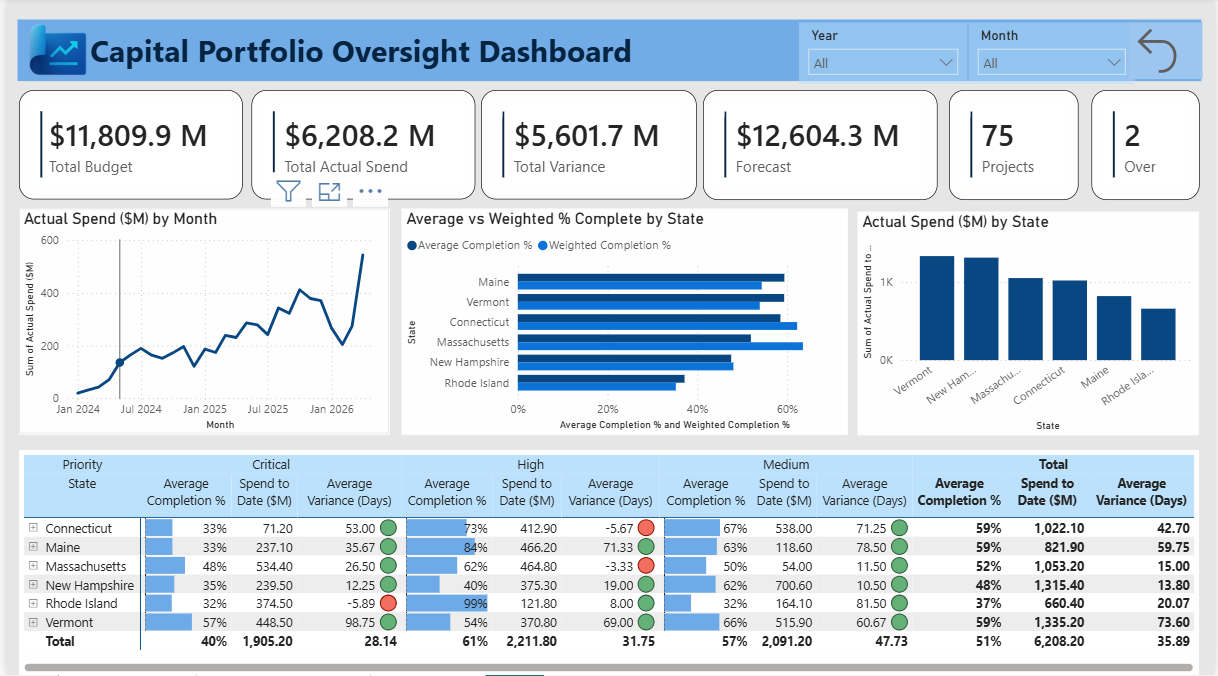

What the dashboard file says about the page in this screenshot:
{"tool":"powerbi","page":{"name":"Overview","canvas":[1280,720],"ordinal":0},"visuals":[{"type":"cardVisual","fields":{"Data":["CapitalProjects.Total Budget (M)"]},"box":[13.5,99.3,237.3,116.1],"z":0},{"type":"cardVisual","fields":{"Data":["CapitalProjects.Total Actual Spend (M)"]},"box":[259.1,99.3,237.3,116.1],"z":1000},{"type":"cardVisual","fields":{"Data":["CapitalProjects.Total Variance"]},"box":[503.1,99.3,228.9,116.1],"z":2000},{"type":"cardVisual","fields":{"Data":["CapitalProjects.Forecast"]},"box":[738.7,98.7,248.6,116.4],"z":3000},{"type":"cardVisual","fields":{"Data":["CapitalProjects.Project Count"]},"box":[999.7,98.7,137.5,116.4],"z":4000},{"type":"cardVisual","fields":{"Data":["CapitalProjects.Over Budget Projects"]},"box":[1149.5,98.7,114.6,116.4],"z":5000},{"type":"lineChart","title":"Actual Spend ($M) by Month","fields":{"Category":["MonthlySpend.Month"],"Y":["Sum(MonthlySpend.Actual Spend ($M))"]},"box":[12.8,223.8,393.3,239.8],"z":6000},{"type":"clusteredBarChart","title":"Average vs Weighted % Complete by State","fields":{"Category":["CapitalProjects.State"],"Y":["CapitalProjects.Average Completion %","CapitalProjects.Weighted Completion %"]},"box":[418.9,223.8,473.2,239.8],"z":7000},{"type":"columnChart","title":"Actual Spend ($M) by State","fields":{"Category":["CapitalProjects.State"],"Y":["Sum(CapitalProjects.Actual Spend to Date ($M))"]},"box":[902,227.2,361.8,237.3],"z":8000},{"type":"textbox","box":[11.8,23.6,1255.3,65.6],"z":9000},{"type":"image","box":[12.1,20.2,83,70.8],"z":10000},{"type":"pivotTable","fields":{"Rows":["CapitalProjects.State","CapitalProjects.Project ID"],"Values":["CapitalProjects.Average Completion %","Sum(CapitalProjects.Schedule Variance (Days))","Sum(CapitalProjects.Actual Spend to Date ($M))"],"Columns":["CapitalProjects.Priority"]},"box":[12.6,480.3,1251.2,240.1],"z":11000},{"type":"slicer","fields":{"Values":["Date Table.Year"]},"box":[839.7,26.9,178.4,65.6],"z":12000},{"type":"slicer","fields":{"Values":["Date Table.Month Name"]},"box":[1019.8,26.9,176.7,65.6],"z":13000},{"type":"actionButton","box":[0,0,100,40],"z":15000},{"type":"actionButton","box":[1190.1,27,77.9,60],"z":15001}]}

Visuals, with their boxes in screenshot pixels (x1, y1, x2, y2), scaled from the page's 1280x720 canvas onto the 1218x676 screenshot:
cardVisual - CapitalProjects.Total Budget (M): pyautogui.locateOnScreen(13, 93, 239, 202)
cardVisual - CapitalProjects.Total Actual Spend (M): pyautogui.locateOnScreen(247, 93, 472, 202)
cardVisual - CapitalProjects.Total Variance: pyautogui.locateOnScreen(479, 93, 697, 202)
cardVisual - CapitalProjects.Forecast: pyautogui.locateOnScreen(703, 93, 939, 202)
cardVisual - CapitalProjects.Project Count: pyautogui.locateOnScreen(951, 93, 1082, 202)
cardVisual - CapitalProjects.Over Budget Projects: pyautogui.locateOnScreen(1094, 93, 1203, 202)
"Actual Spend ($M) by Month" lineChart: pyautogui.locateOnScreen(12, 210, 386, 435)
"Average vs Weighted % Complete by State" clusteredBarChart: pyautogui.locateOnScreen(399, 210, 849, 435)
"Actual Spend ($M) by State" columnChart: pyautogui.locateOnScreen(858, 213, 1203, 436)
textbox: pyautogui.locateOnScreen(11, 22, 1206, 84)
image: pyautogui.locateOnScreen(12, 19, 90, 85)
pivotTable - CapitalProjects.State x CapitalProjects.Project ID: pyautogui.locateOnScreen(12, 451, 1203, 675)
slicer - Date Table.Year: pyautogui.locateOnScreen(799, 25, 969, 87)
slicer - Date Table.Month Name: pyautogui.locateOnScreen(970, 25, 1139, 87)
actionButton: pyautogui.locateOnScreen(0, 0, 95, 38)
actionButton: pyautogui.locateOnScreen(1132, 25, 1207, 82)
